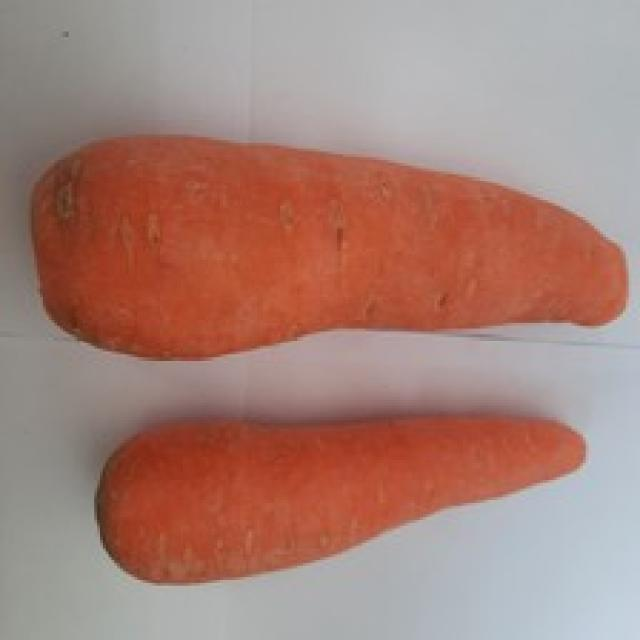Fresh_Carrot: (21, 122, 640, 580)
